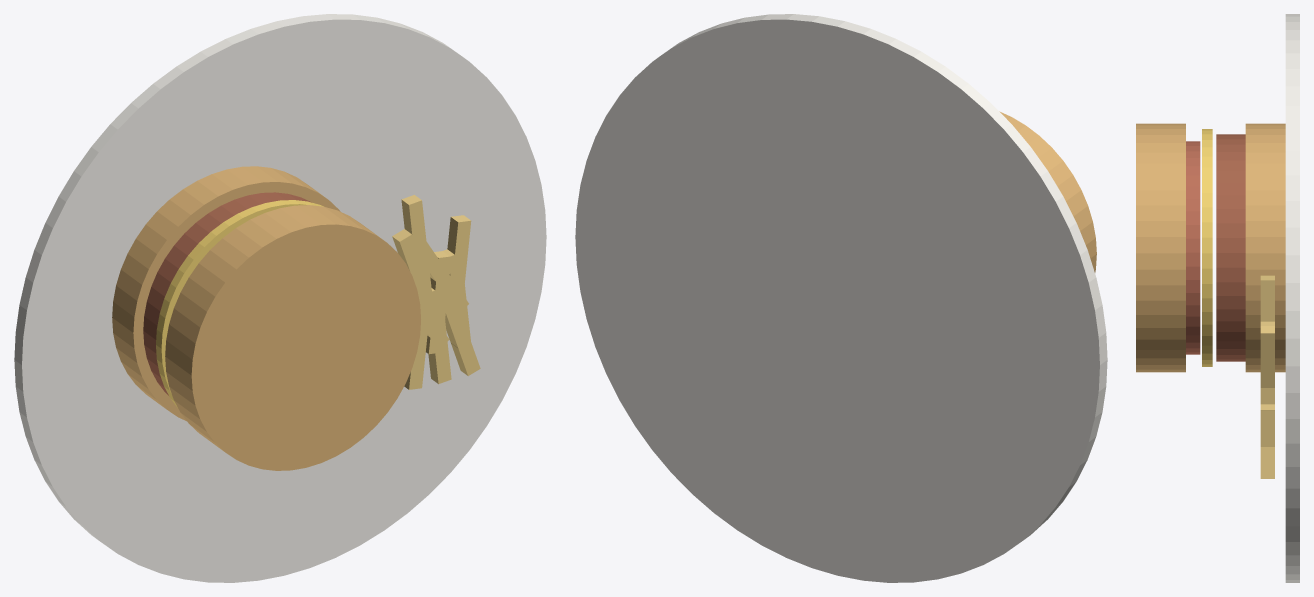
File: hamburguesa-tocino-demo.glb
3 renders of one model, left to right at view 1: azimuth 30°, elevation 25°; view 2: azimuth 150°, elevation 25°; view 3: azimuth 270°, elevation 25°, orthographic. The views are drawn at different scales.
Visible parts, largest first — view 1: plate, layer0.078, layer0.018, layer0.038, layer0.052, fry2, fry6, fry1, fry9, fry8, fry4, fry7 (+2 smaller); view 2: plate, layer0.078; view 3: layer0.078, layer0.018, plate, layer0.038, layer0.061, layer0.052, fry8, fry5, fry9, fry2.
Boxes of the visible parts, box(x1,y1,x2,y2) form: plate: box(14, 14, 546, 582); layer0.078: box(165, 205, 420, 470); layer0.018: box(112, 166, 340, 421); layer0.038: box(143, 192, 311, 395); layer0.052: box(156, 200, 323, 407); fry2: box(442, 286, 480, 375); fry6: box(392, 229, 440, 323); fry1: box(428, 288, 451, 384); fry9: box(401, 195, 431, 288); fry8: box(447, 215, 471, 317); fry4: box(426, 251, 451, 354); fry7: box(415, 235, 468, 310); plate: box(575, 14, 1107, 582); layer0.078: box(999, 111, 1096, 272); layer0.078: box(1136, 123, 1185, 372); layer0.018: box(1245, 123, 1285, 372); plate: box(1285, 14, 1299, 582); layer0.038: box(1216, 134, 1245, 361); layer0.061: box(1186, 141, 1200, 354); layer0.052: box(1202, 129, 1212, 366); fry8: box(1260, 326, 1274, 387); fry5: box(1260, 388, 1274, 446); fry9: box(1260, 275, 1274, 321); fry2: box(1260, 447, 1274, 478).
Bounding box in the file's own units: 0.32 × 0.32 × 0.092.
